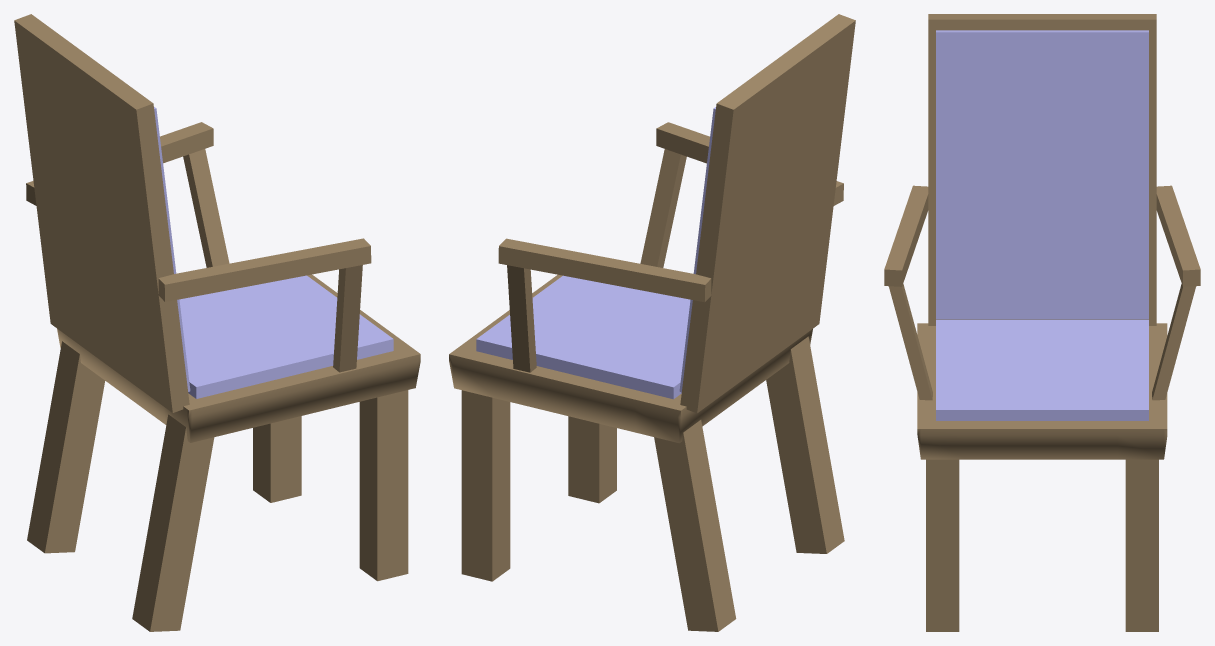
The model's file is LowPolyChair.fbx.
The picture shows the model from 3 angles, left to right: view 1: azimuth 30°, elevation 25°; view 2: azimuth 150°, elevation 25°; view 3: azimuth 270°, elevation 25°; orthographic projection. The views are drawn at different scales.
Parts seen in each view (by area): view 1: Chair; view 2: Chair; view 3: Chair.
Boxes of the visible parts, x1,y1,x2,y2 form: Chair: [14, 14, 420, 631]; Chair: [449, 14, 855, 631]; Chair: [884, 14, 1200, 631].
Bounding box in the file's own units: 9.04 × 16.51 × 9.51.
